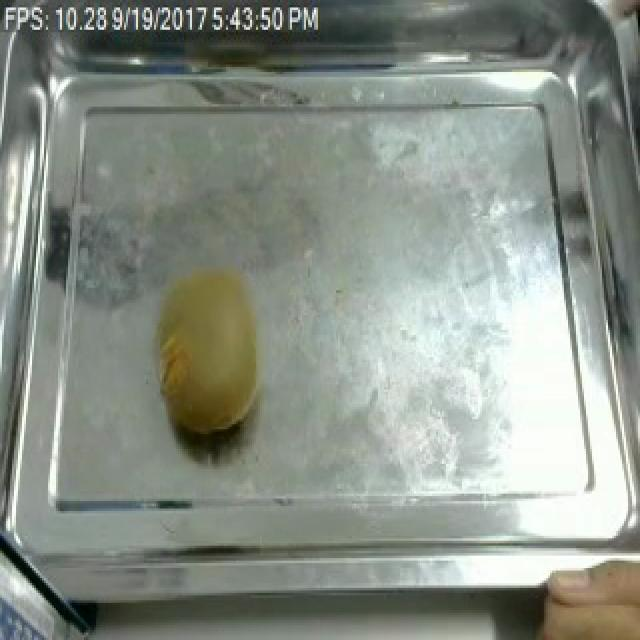Fruit: (146, 256, 268, 439), (514, 543, 640, 640)
